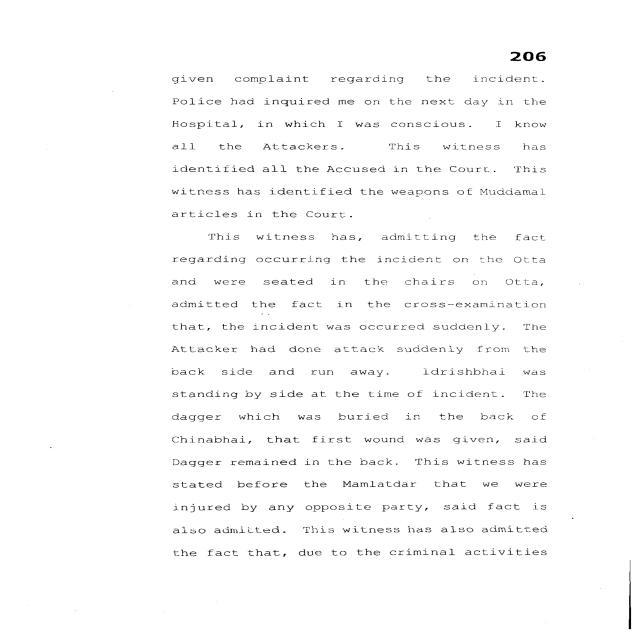page-number: (423, 2, 635, 70)
